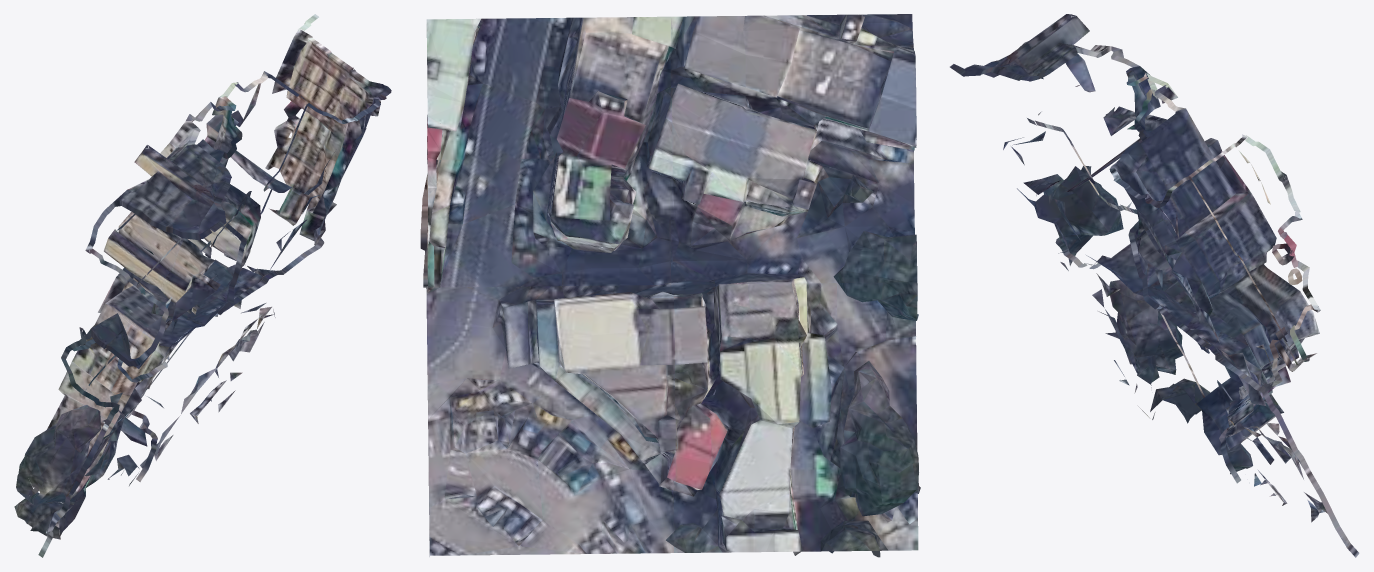
3 views of the same model, side by side, from view 1: azimuth 30°, elevation 25°; view 2: azimuth 150°, elevation 25°; view 3: azimuth 270°, elevation 25° (orthographic). The views are drawn at different scales.
Bounding box in the file's own units: 74.28 × 77.1 × 66.2.
1 material, 1 textured.
